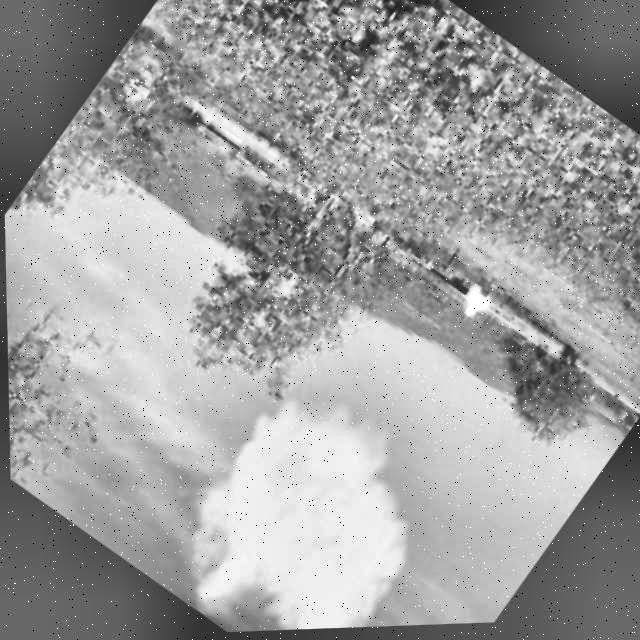Smoke: (131, 350, 478, 634)
